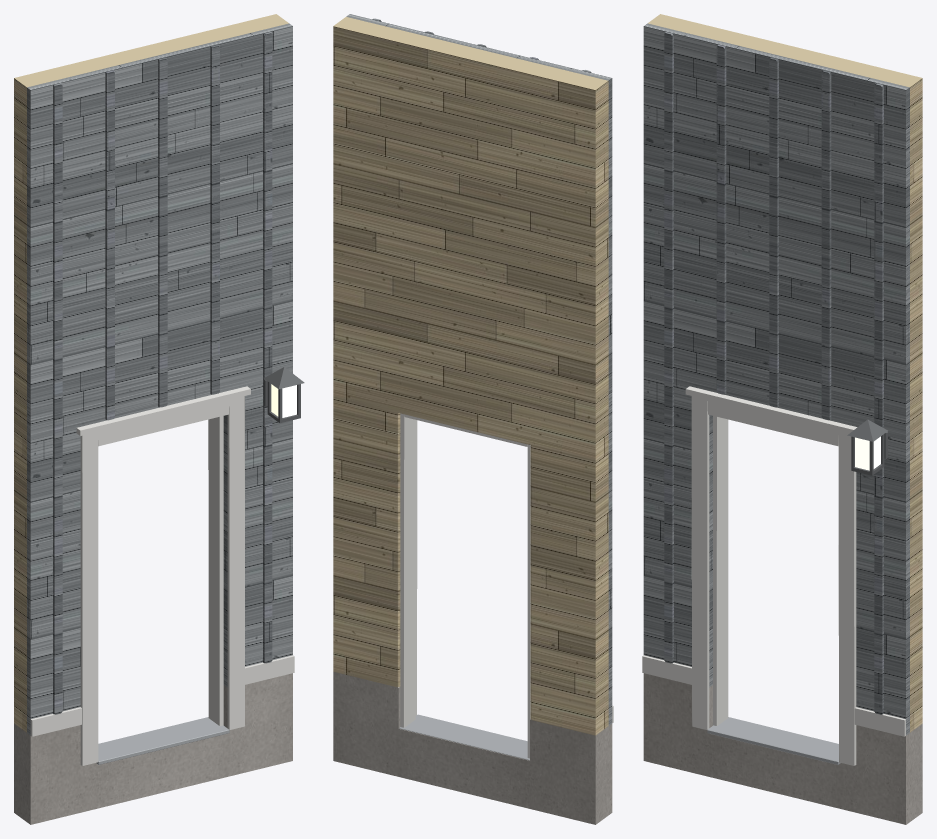
File: m_door.glb
3 views of the same model, side by side, from view 1: azimuth 30°, elevation 25°; view 2: azimuth 150°, elevation 25°; view 3: azimuth 330°, elevation 25° (orthographic).
Visible parts, largest first — view 1: m_door_siding, m_door_batten, m_door_trim, m_door_concrete, m_door_plaster, m_door_steel, m_door_iron, m_door_lamp_glass; view 2: m_door_plaster, m_door_concrete, m_door_trim, m_door_siding, m_door_steel; view 3: m_door_siding, m_door_batten, m_door_trim, m_door_concrete, m_door_plaster, m_door_steel, m_door_iron, m_door_lamp_glass.
Part boxes in pixels (box(x1,y1,x2,y2)): m_door_siding: box(27, 23, 292, 735); m_door_batten: box(53, 31, 272, 714); m_door_trim: box(30, 386, 294, 765); m_door_concrete: box(14, 673, 292, 824); m_door_plaster: box(14, 14, 288, 732); m_door_steel: box(96, 717, 229, 764); m_door_iron: box(264, 367, 304, 423); m_door_lamp_glass: box(271, 384, 296, 417); m_door_plaster: box(333, 17, 608, 735); m_door_concrete: box(333, 672, 612, 824); m_door_trim: box(400, 413, 613, 758); m_door_siding: box(346, 14, 612, 725); m_door_steel: box(399, 714, 529, 760); m_door_siding: box(643, 23, 909, 735); m_door_batten: box(664, 31, 883, 714); m_door_trim: box(642, 386, 905, 765); m_door_concrete: box(643, 673, 922, 824); m_door_plaster: box(648, 14, 922, 732); m_door_steel: box(707, 717, 840, 764); m_door_iron: box(847, 419, 887, 475); m_door_lamp_glass: box(855, 436, 880, 470).
Bounding box in the file's own units: 2 × 5.35 × 0.515.
Materials: 8 (4 with a texture image).
